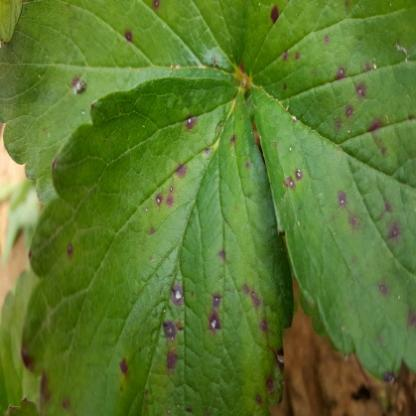Strawberry_Leaf_Spot: (20, 76, 294, 415), (241, 0, 415, 385), (0, 0, 246, 204)
